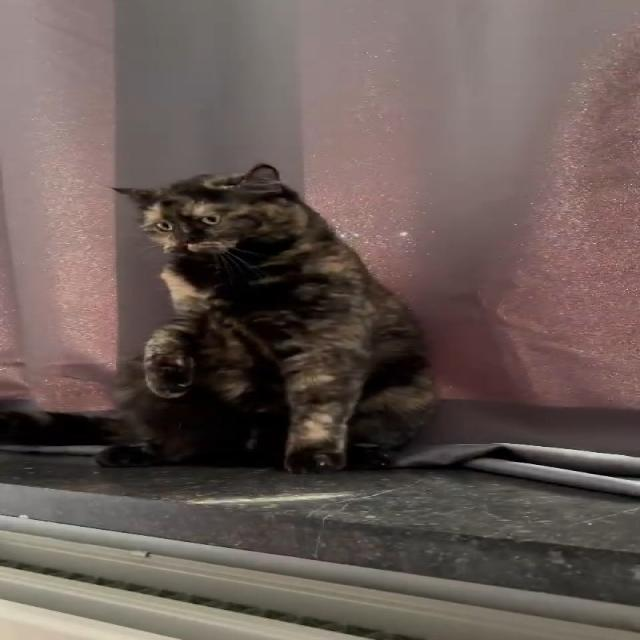authorized: (100, 162, 439, 474)
